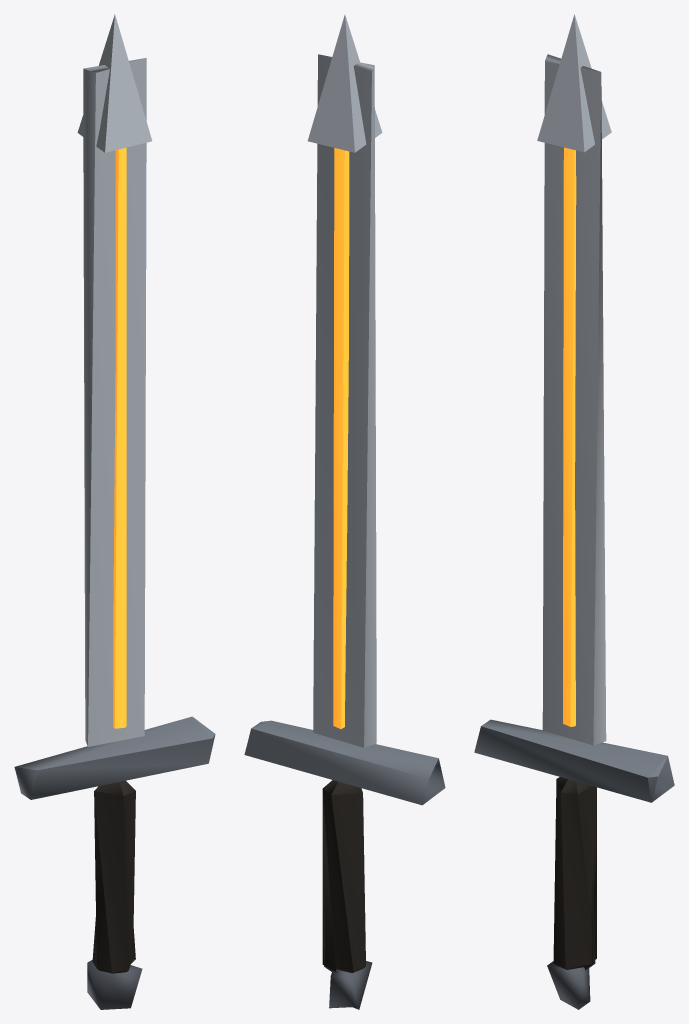
File: power_sword_lod2.glb
3 views of the same model, side by side, from view 1: azimuth 30°, elevation 25°; view 2: azimuth 150°, elevation 25°; view 3: azimuth 330°, elevation 25° (orthographic).
Parts seen in each view (by area): view 1: weapon.power_sword; view 2: weapon.power_sword; view 3: weapon.power_sword.
Part boxes in pixels (<box>): weapon.power_sword: <box>14,14,215,1009</box>; weapon.power_sword: <box>244,15,445,1009</box>; weapon.power_sword: <box>474,14,674,1009</box>.
Bounding box in the file's own units: 0.2133 × 1.1 × 0.056.
